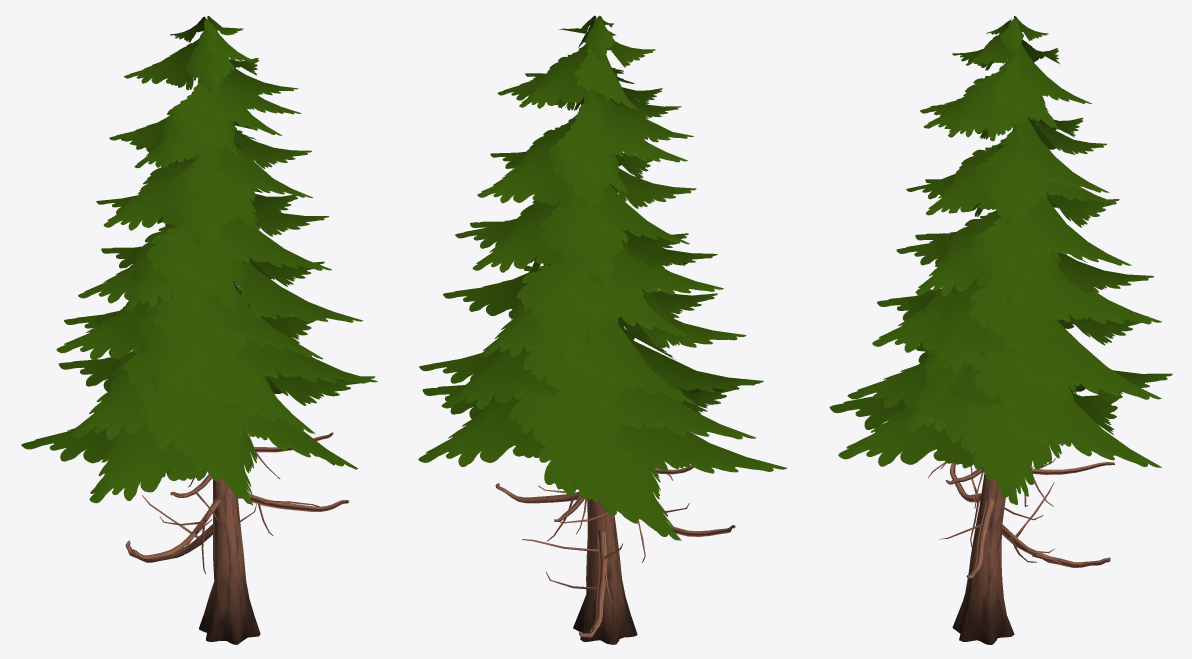
File: Pine_4.glb
The picture shows the model from 3 angles, left to right: view 1: azimuth 30°, elevation 25°; view 2: azimuth 150°, elevation 25°; view 3: azimuth 270°, elevation 25°; orthographic projection. The views are drawn at different scales.
Visible parts, largest first — view 1: Pine_4; view 2: Pine_4; view 3: Pine_4.
Boxes of the visible parts, x1=… form: Pine_4: x1=21, y1=16, x2=377, y2=644; Pine_4: x1=418, y1=15, x2=787, y2=644; Pine_4: x1=829, y1=16, x2=1172, y2=644.
Bounding box in the file's own units: 5.8 × 10.24 × 5.37.
2 materials, 2 textured.
